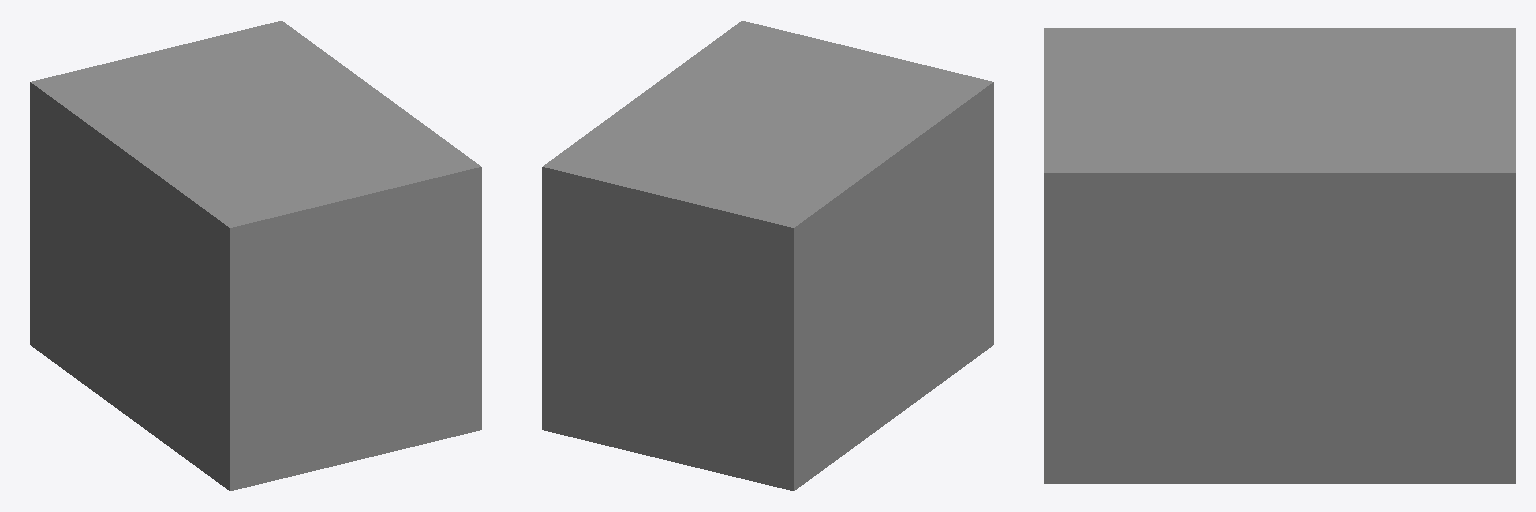
robot.urdf — rotary_slide_boom_1_carriage_1:
<?xml version='1.0' encoding='utf-8'?>
<robot name="rotary_slide_boom_1_carriage_1">
  <link name="boom_1_carriage_1">
    <inertial>
      <origin xyz="-2.7755575615628914e-17 -1.387778780781446e-17 0.020000000000000018" rpy="0 0 0" />
      <mass value="0.6908" />
      <inertia ixx="0.00026624583333332424" iyy="0.00018421333333333567" izz="0.00026624583333333465" ixy="-8.623386960608514e-19" iyz="1.7347234759768075e-18" ixz="3.469446951953614e-18" />
    </inertial>
    <visual>
      <origin xyz="-0.14 -0.07000000000000002 -0.255" rpy="0 0 -1.5707963267948966" />
      <geometry>
        <mesh filename="package://rotary_slide_description/meshes/boom_1_carriage_1.stl" scale="0.001 0.001 0.001" />
      </geometry>
      <material name="boom_1_carriage_1_material">
        <color rgba="0.6235294117647059 0.6235294117647059 0.6235294117647059 1" />
      </material>
    </visual>
    <collision>
      <origin xyz="-0.14 -0.07000000000000002 -0.255" rpy="0 0 -1.5707963267948966" />
      <geometry>
        <mesh filename="package://rotary_slide_description/meshes/boom_1_carriage_1.stl" scale="0.001 0.001 0.001" />
      </geometry>
    </collision>
  </link>
</robot>

--- What the picture shows (computed from the rendered views, not written in the file) ---
Views: 3 orthographic renders of the robot side by side, from view 1: azimuth 30°, elevation 25°; view 2: azimuth 150°, elevation 25°; view 3: azimuth 270°, elevation 25°.
Robot: rotary_slide_boom_1_carriage_1 — 1 links, 0 joints (none); root link boom_1_carriage_1; default pose: every joint at zero.
Links seen in each view (by area): view 1: boom_1_carriage_1; view 2: boom_1_carriage_1; view 3: boom_1_carriage_1.
Link boxes in pixels (x1,y1,x2,y2): boom_1_carriage_1: (30, 21, 481, 490); boom_1_carriage_1: (542, 21, 993, 490); boom_1_carriage_1: (1044, 28, 1515, 483).
Bounding box of the posed robot: 0.04 × 0.055 × 0.04 m (x, y, z).
1 mesh visuals loaded from 1 distinct referenced files (1 binary STL).
